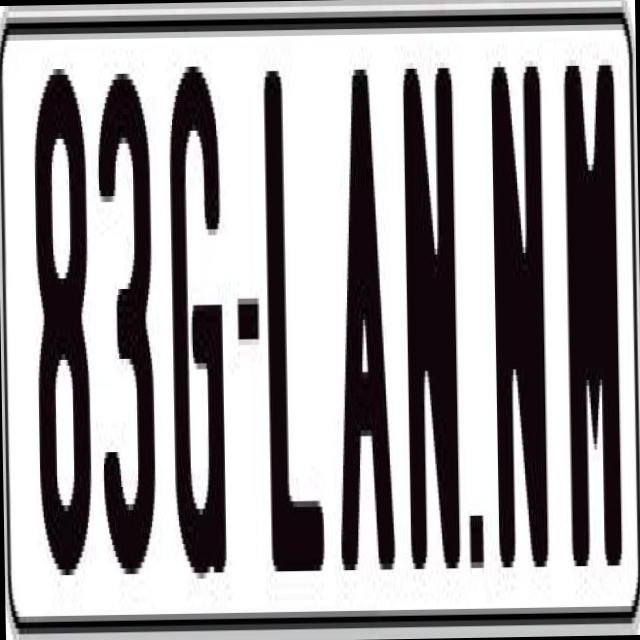3: (94, 55, 162, 562)
8: (32, 68, 92, 575)
A: (331, 69, 394, 594)
G: (164, 59, 230, 602)
L: (260, 64, 326, 583)
M: (562, 58, 626, 595)
N: (488, 59, 550, 596), (401, 62, 465, 574)
